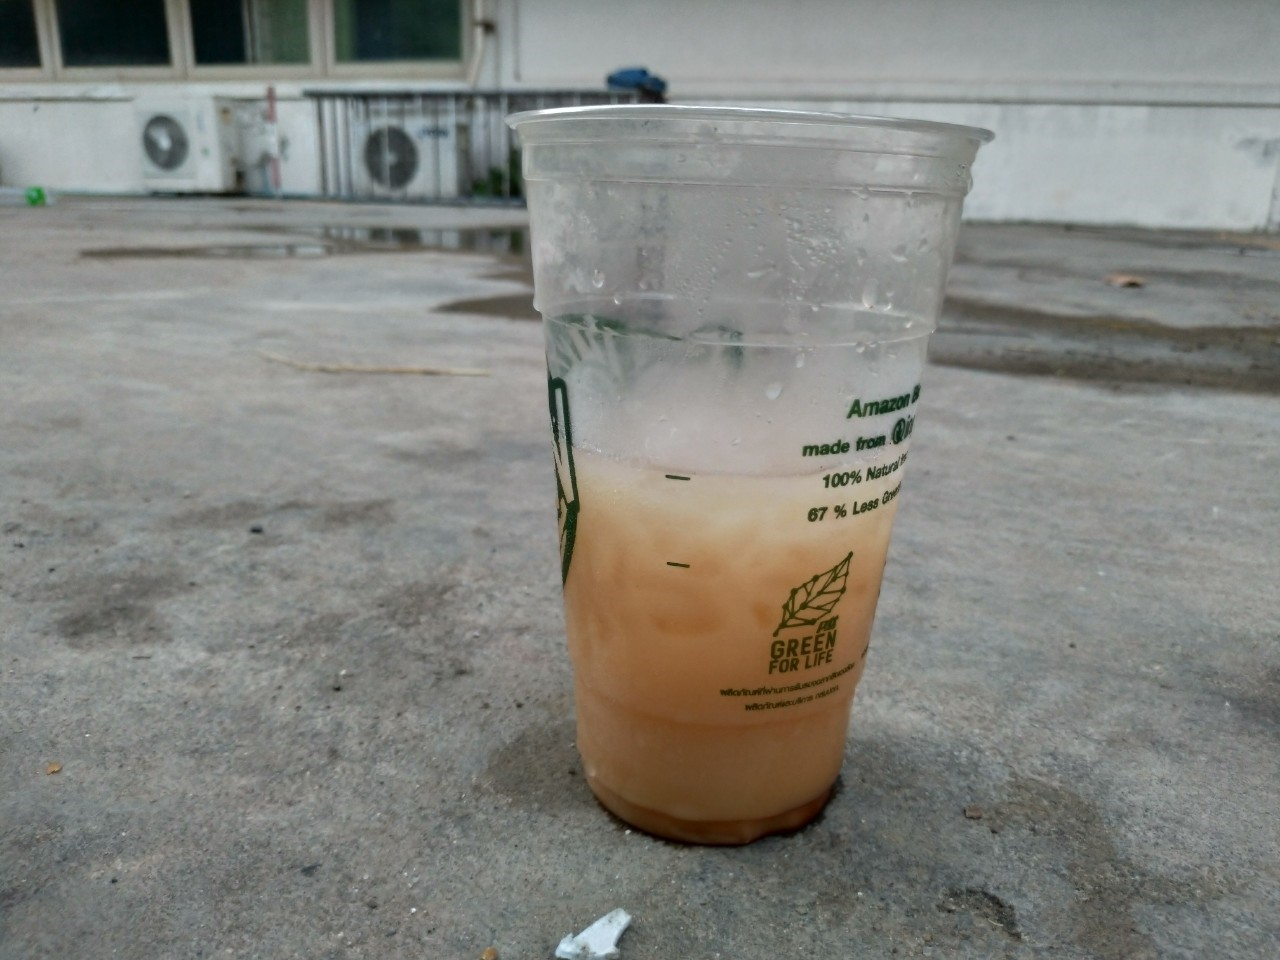PlasticCup: (501, 92, 983, 847)
